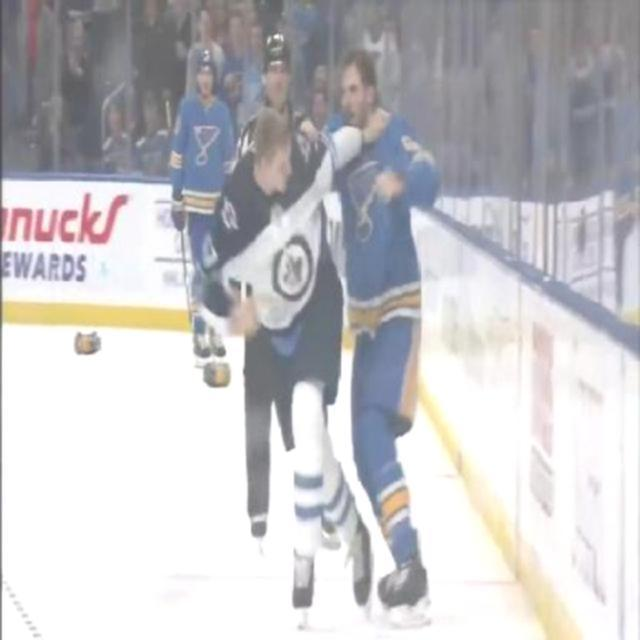fight: (198, 52, 444, 606)
